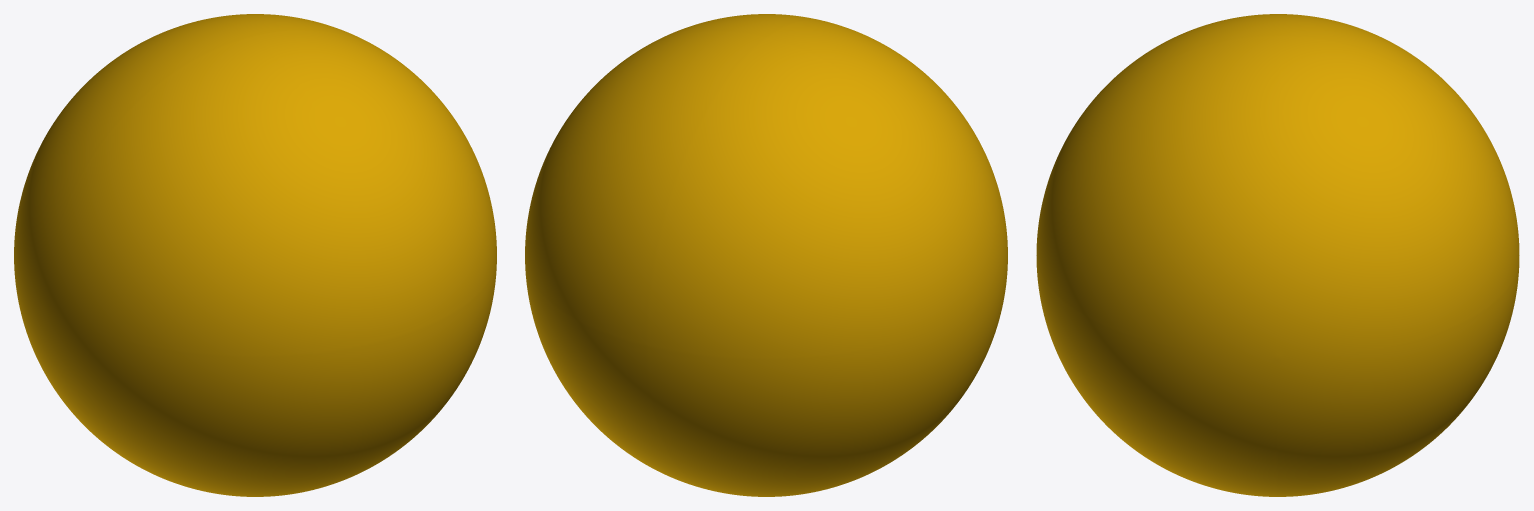
Rendered from dark_yellow_sphere.glb.
The picture shows the model from 3 angles, left to right: view 1: azimuth 30°, elevation 25°; view 2: azimuth 150°, elevation 25°; view 3: azimuth 270°, elevation 25°; orthographic projection.
Parts seen in each view (by area): view 1: sphereestlcleanermaterialmergergles; view 2: sphereestlcleanermaterialmergergles; view 3: sphereestlcleanermaterialmergergles.
Part boxes in pixels (x1,y1,x2,y2): sphereestlcleanermaterialmergergles: (14,14,496,496); sphereestlcleanermaterialmergergles: (525,14,1007,496); sphereestlcleanermaterialmergergles: (1036,14,1519,496).
Size of the model in its own units: 20 by 20 by 20.
